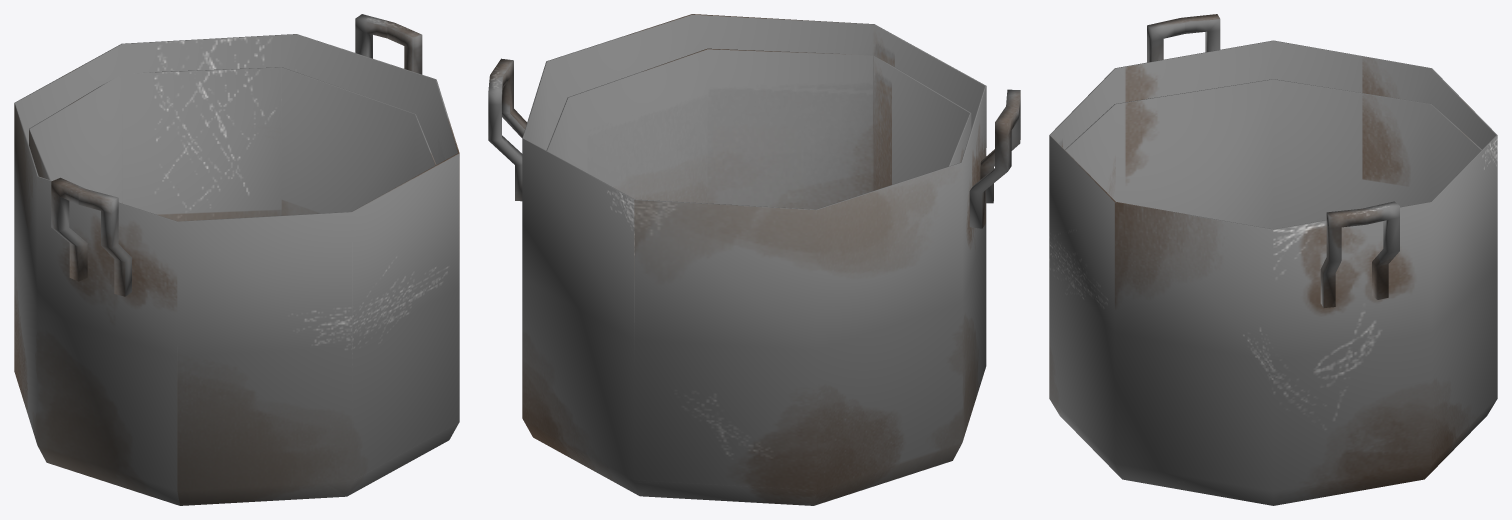
File: olla_acto2.fbx
3 renders of one model, left to right at view 1: azimuth 30°, elevation 25°; view 2: azimuth 150°, elevation 25°; view 3: azimuth 270°, elevation 25°, orthographic. The views are drawn at different scales.
Visible parts, largest first — view 1: Olla_term.001, Olla_term.003; view 2: Olla_term.001, Olla_term.003; view 3: Olla_term.001, Olla_term.003.
Boxes of the visible parts, x1,y1,x2,y2 form: Olla_term.001: (14,14,459,505); Olla_term.003: (29,67,436,495); Olla_term.001: (488,14,1020,505); Olla_term.003: (546,48,971,495); Olla_term.001: (1049,14,1497,505); Olla_term.003: (1049,79,1497,414).
Size of the model in its own units: 38.9 by 26.78 by 36.25.
